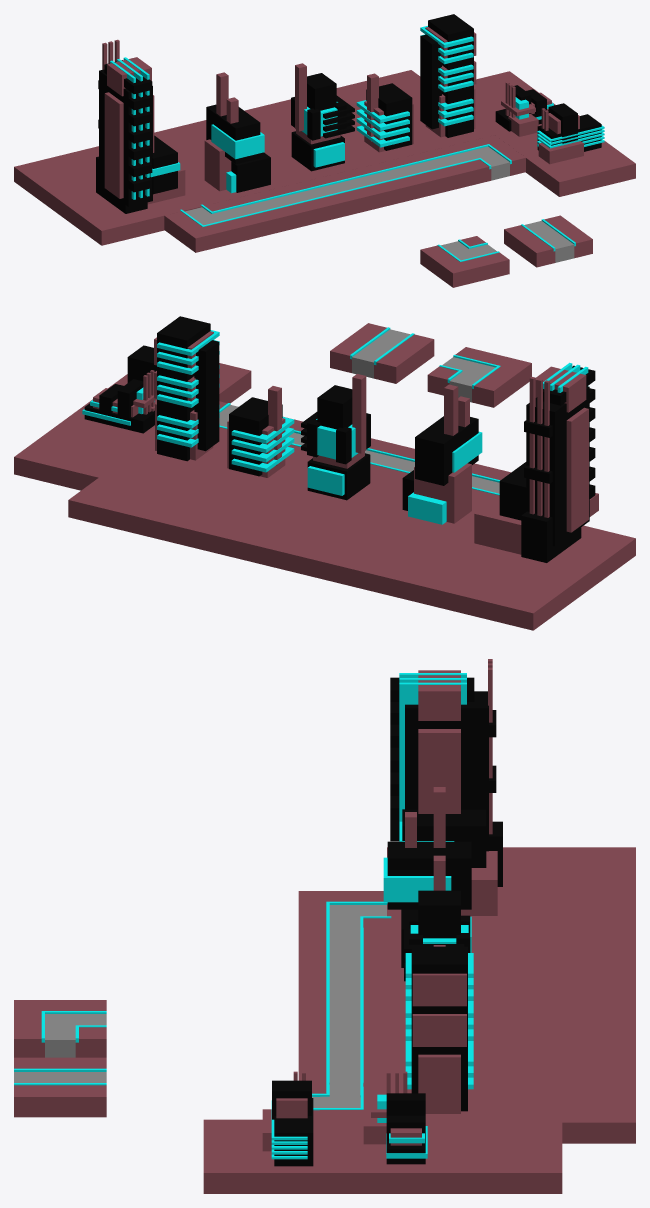
Rendered from slumz 2.fbx.
The picture shows the model from 3 angles, top to bottom: view 1: azimuth 30°, elevation 25°; view 2: azimuth 150°, elevation 25°; view 3: azimuth 270°, elevation 25°; orthographic projection. The views are drawn at different scales.
Parts seen in each view (by area): view 1: pCube62, pCube67, pCube58, pCube60, pCube61, pCube64, pCube63, pCube65, pCube59, pCube21, pCube66, pCube82 (+22 smaller); view 2: pCube62, pCube67, pCube60, pCube58, pCube82, pCube21, pCube81, pCube37, pCube43, pCube83, pCube7, pCube35 (+28 smaller); view 3: pCube62, pCube67, pCube60, pCube58, pCube82, pCube63, pCube64, pCube61, pCube65, pCube59, pCube21, pCube37 (+15 smaller).
Boxes of the visible parts, x1=… form: pCube62: x1=14, y1=70, x2=497, y2=245; pCube67: x1=474, y1=71, x2=635, y2=196; pCube58: x1=420, y1=236, x2=509, y2=287; pCube60: x1=504, y1=215, x2=592, y2=267; pCube61: x1=164, y1=202, x2=251, y2=252; pCube64: x1=331, y1=161, x2=418, y2=212; pCube63: x1=276, y1=175, x2=361, y2=225; pCube65: x1=386, y1=148, x2=472, y2=198; pCube59: x1=219, y1=188, x2=306, y2=238; pCube21: x1=428, y1=14, x2=473, y2=137; pCube66: x1=443, y1=135, x2=525, y2=184; pCube82: x1=99, y1=69, x2=152, y2=206; pCube62: x1=68, y1=436, x2=635, y2=630; pCube67: x1=14, y1=363, x2=251, y2=490; pCube60: x1=330, y1=323, x2=434, y2=383; pCube58: x1=427, y1=347, x2=531, y2=407; pCube82: x1=526, y1=386, x2=589, y2=546; pCube21: x1=157, y1=316, x2=210, y2=461; pCube81: x1=566, y1=407, x2=588, y2=532; pCube37: x1=415, y1=416, x2=478, y2=485; pCube43: x1=194, y1=340, x2=219, y2=451; pCube83: x1=474, y1=495, x2=521, y2=554; pCube7: x1=229, y1=397, x2=282, y2=476; pCube35: x1=414, y1=463, x2=471, y2=523; pCube62: x1=387, y1=847, x2=635, y2=1143; pCube67: x1=203, y1=1119, x2=562, y2=1193; pCube60: x1=14, y1=1057, x2=106, y2=1117; pCube58: x1=14, y1=1000, x2=106, y2=1057; pCube82: x1=405, y1=691, x2=488, y2=851; pCube63: x1=298, y1=966, x2=386, y2=1006; pCube64: x1=298, y1=1005, x2=386, y2=1045; pCube61: x1=298, y1=891, x2=391, y2=930; pCube65: x1=298, y1=1043, x2=386, y2=1084; pCube59: x1=298, y1=927, x2=386, y2=967; pCube21: x1=411, y1=946, x2=467, y2=1111; pCube37: x1=387, y1=841, x2=471, y2=909.
Bounding box in the file's own units: 41.57 × 14.02 × 33.56.
